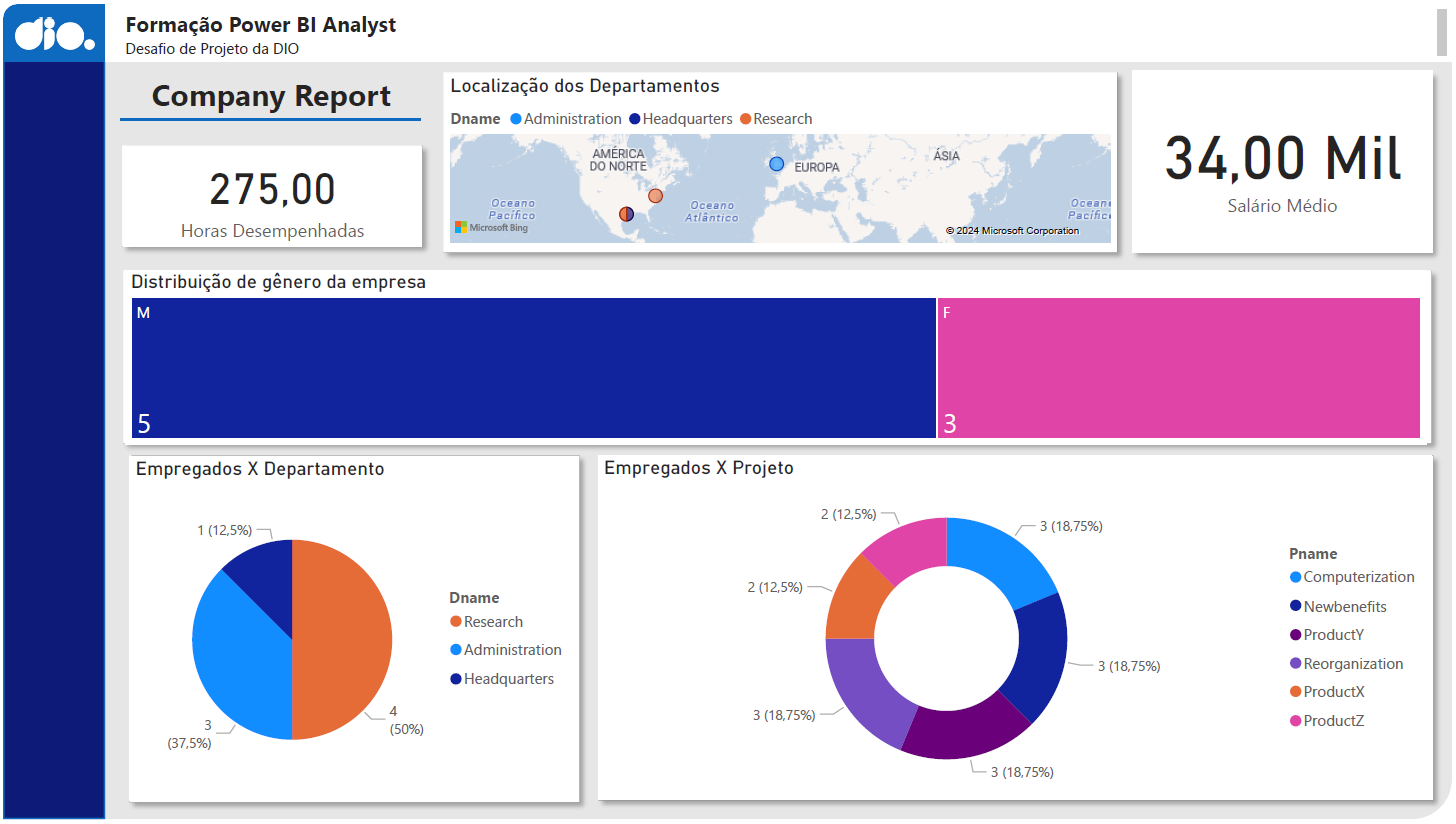

This screenshot's page, from the dashboard's own definition file:
{"tool":"powerbi","page":{"name":"Página 1","canvas":[1280,720],"ordinal":0},"visuals":[{"type":"shape","title":"Fundo","box":[0,0,1280,720],"z":0},{"type":"shape","box":[0,0,90.2,719.5],"z":0,"group":"g7"},{"type":"shape","box":[90,0,1190,51.1],"z":0,"group":"g8"},{"type":"shape","box":[97,225.6,1174,171.4],"z":0,"group":"g4"},{"type":"shape","box":[103,390,415,323.8],"z":0,"group":"g3"},{"type":"group","id":"g1","title":"Gráfico 2","box":[516.7,390,755,322.5],"z":0,"group":"g2"},{"type":"shape","box":[516.7,390,755,322.4],"z":0,"group":"g1"},{"type":"shape","box":[103.6,85.5,265,32.5],"z":500,"group":"g6"},{"type":"treemap","title":"Distribuição de gênero da empresa","fields":{"Group":["company employee.Sex"],"Values":["CountNonNull(company employee.Sex)"]},"box":[108.3,235,1150,153.3],"z":500,"group":"g4"},{"type":"shape","box":[0,0,90,51.1],"z":1000,"group":"g7"},{"type":"textbox","box":[103.3,0,1176.7,51.1],"z":1000,"group":"g8"},{"type":"shape","box":[380.2,51.3,612.9,177.1],"z":1000,"group":"g10"},{"type":"textbox","box":[103.6,55.5,266.2,52.5],"z":1000,"group":"g6"},{"type":"group","id":"g2","title":"Cartões 3","box":[103,390,1168.7,323.8],"z":1000},{"type":"group","id":"g3","title":"Gráfico 1","box":[103,390,415,323.8],"z":1000,"group":"g2"},{"type":"donutChart","title":"Empregados X Projeto","fields":{"Category":["company works_on.Pname"],"Y":["CountNonNull(company works_on.Essn)"]},"box":[525.3,399,736,304],"z":1000,"group":"g1"},{"type":"pieChart","title":"Empregados X Departamento","fields":{"Category":["company employee.Dname"],"Y":["CountNonNull(company employee.Name)"]},"box":[111.9,400.3,395.7,304.1],"z":1000,"group":"g3"},{"type":"image","box":[5.6,0,80,51.1],"z":2000,"group":"g7"},{"type":"map","title":"Localização dos Departamentos","fields":{"Series":["company departament.Dname"],"Category":["company departament.DLocation"]},"box":[390.1,62.6,593.1,154.6],"z":2000,"group":"g10"},{"type":"group","id":"g4","title":"Cartão 2","box":[97,225.6,1174,171.4],"z":2000},{"type":"group","id":"g5","title":"Cartões","box":[95.9,51.3,1175.8,177.1],"z":3000},{"type":"shape","box":[988.4,51.3,283.3,176.7],"z":3000,"group":"g9"},{"type":"group","id":"g6","title":"Titulo","box":[103.6,55.5,266.2,62.5],"z":4000},{"type":"shape","box":[95.9,116.5,282.9,107.1],"z":4000,"group":"g11"},{"type":"group","id":"g7","title":"Barra lateral esquerda","box":[0,0,90.2,719.5],"z":5000},{"type":"card","fields":{"Values":["Median(company employee.Salary)"]},"box":[997.8,59.4,264.3,160],"z":5000,"group":"g9"},{"type":"card","fields":{"Values":["Sum(company works_on.Hours)"]},"box":[105.6,126.7,264.8,88.1],"z":5000,"group":"g11"},{"type":"group","id":"g8","title":"Cabeçalho","box":[90,0,1190,51.1],"z":6000},{"type":"group","id":"g9","title":"Gráfico 3","box":[988.4,51.3,283.3,176.7],"z":6001,"group":"g5"},{"type":"group","id":"g10","title":"Gráfico 2","box":[380.2,51.3,612.9,177.1],"z":7001,"group":"g5"},{"type":"group","id":"g11","title":"Gráfico 1","box":[95.9,116.5,282.9,107.1],"z":7501,"group":"g5"}]}

Visuals, with their boxes in screenshot pixels (x1, y1, x2, y2), scaled from the page's 1280x720 canvas onto the 1456x824 screenshot:
"Fundo" shape: crop(0, 0, 1455, 823)
shape: crop(0, 0, 103, 823)
shape: crop(102, 0, 1455, 58)
shape: crop(110, 258, 1446, 454)
shape: crop(117, 446, 589, 817)
"Gráfico 2" group: crop(588, 446, 1447, 815)
shape: crop(588, 446, 1447, 815)
shape: crop(118, 98, 419, 135)
"Distribuição de gênero da empresa" treemap: crop(123, 269, 1431, 444)
shape: crop(0, 0, 102, 58)
textbox: crop(118, 0, 1455, 58)
shape: crop(432, 59, 1130, 261)
textbox: crop(118, 64, 421, 124)
"Cartões 3" group: crop(117, 446, 1447, 817)
"Gráfico 1" group: crop(117, 446, 589, 817)
"Empregados X Projeto" donutChart: crop(598, 457, 1435, 805)
"Empregados X Departamento" pieChart: crop(127, 458, 577, 806)
image: crop(6, 0, 97, 58)
"Localização dos Departamentos" map: crop(444, 72, 1118, 249)
"Cartão 2" group: crop(110, 258, 1446, 454)
"Cartões" group: crop(109, 59, 1447, 261)
shape: crop(1124, 59, 1447, 261)
"Titulo" group: crop(118, 64, 421, 135)
shape: crop(109, 133, 431, 256)
"Barra lateral esquerda" group: crop(0, 0, 103, 823)
card - Median(company employee.Salary): crop(1135, 68, 1436, 251)
card - Sum(company works_on.Hours): crop(120, 145, 421, 246)
"Cabeçalho" group: crop(102, 0, 1455, 58)
"Gráfico 3" group: crop(1124, 59, 1447, 261)
"Gráfico 2" group: crop(432, 59, 1130, 261)
"Gráfico 1" group: crop(109, 133, 431, 256)
